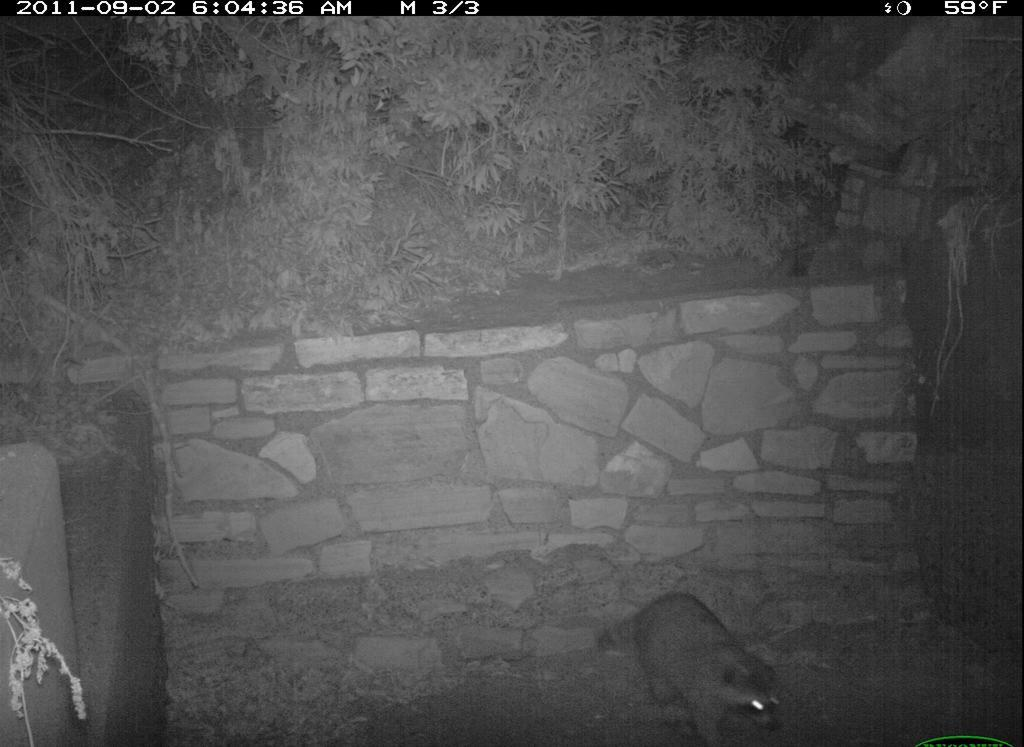raccoon: (600, 584, 788, 747)
